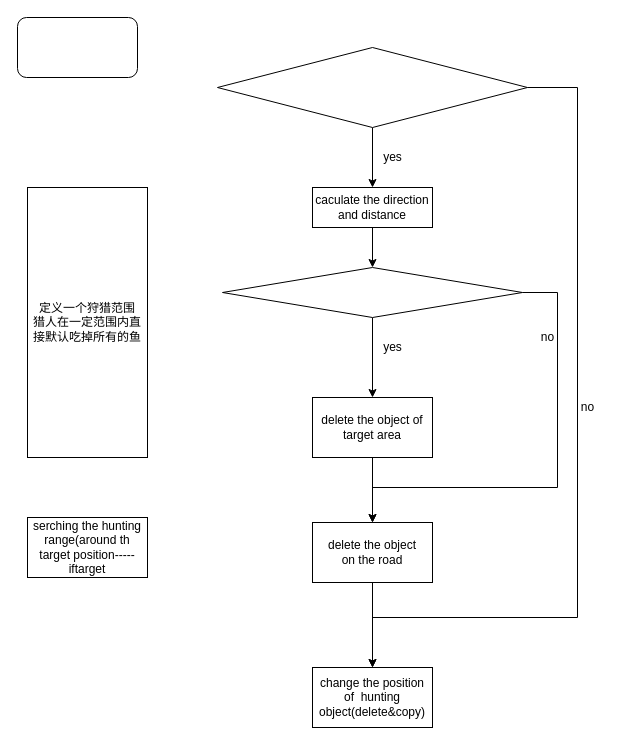
Image size: 620x745. Some labels were removed from this diagram. Each missing label, with the centre of its shape:
"if eat the target sucessfully" belongs at (372,292).
"if target exist" belongs at (372,87).
"movement" belongs at (77,47).
